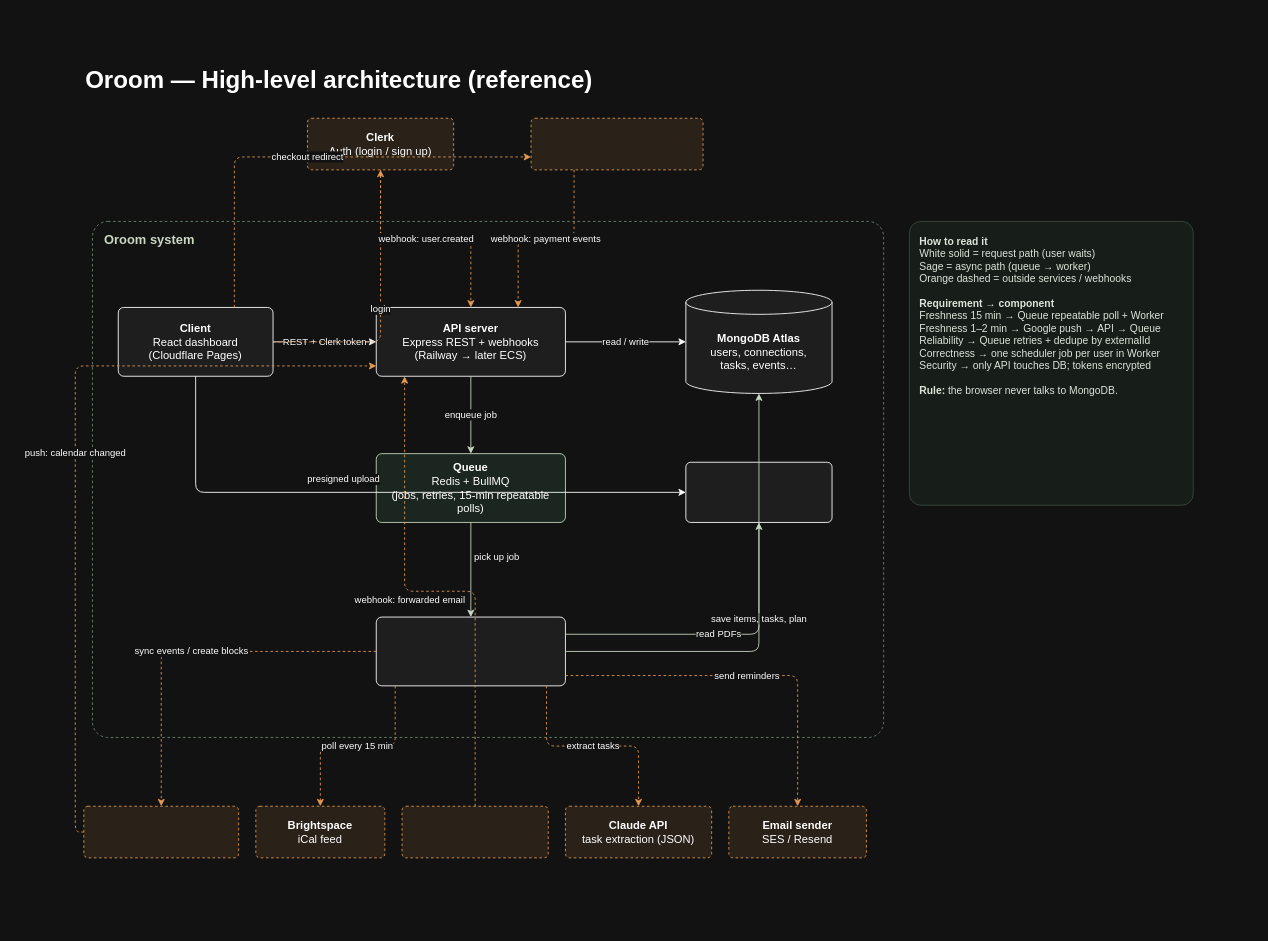
Image size: 1268x941. Some labels were removed from this diagram. Each missing label, with the box of its shape:
File storage S3 (PDFs, notes): (685, 461, 832, 522)
Google Calendar API + push notifications: (83, 805, 239, 858)
Inbound email Postmark / SendGrid: (401, 805, 548, 858)
Stripe Billing (out of scope for MVP): (530, 117, 703, 170)
Worker sync · extract · schedule · remind: (375, 616, 565, 686)
